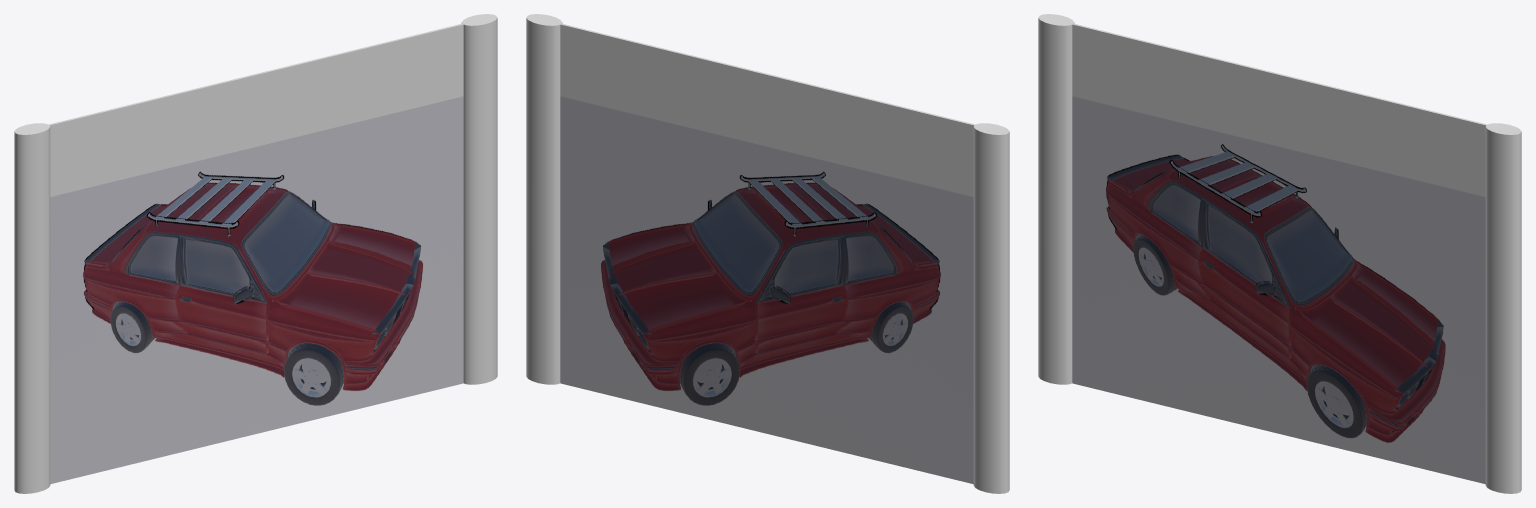
Rendered from image-gate-car.fbx.
3 views of the same model, side by side, from view 1: azimuth 30°, elevation 25°; view 2: azimuth 150°, elevation 25°; view 3: azimuth 330°, elevation 25° (orthographic).
Visible parts, largest first — view 1: image-gate-car, upper-plane.004, cylinder-R.004, cylinder-L.004; view 2: image-gate-car, upper-plane.004, cylinder-R.004, cylinder-L.004; view 3: image-gate-car, upper-plane.004, cylinder-L.004, cylinder-R.004.
Boxes of the visible parts, x1,y1,x2,y2 form: image-gate-car: (50, 96, 463, 484); upper-plane.004: (40, 21, 471, 196); cylinder-R.004: (14, 123, 50, 493); cylinder-L.004: (461, 14, 497, 384); image-gate-car: (560, 96, 973, 484); upper-plane.004: (552, 21, 974, 196); cylinder-R.004: (973, 123, 1009, 493); cylinder-L.004: (526, 14, 562, 384); image-gate-car: (1072, 96, 1485, 484); upper-plane.004: (1064, 21, 1495, 196); cylinder-L.004: (1485, 123, 1521, 493); cylinder-R.004: (1038, 14, 1074, 384).
Size of the model in its own units: 4.36 by 3.11 by 0.183.
